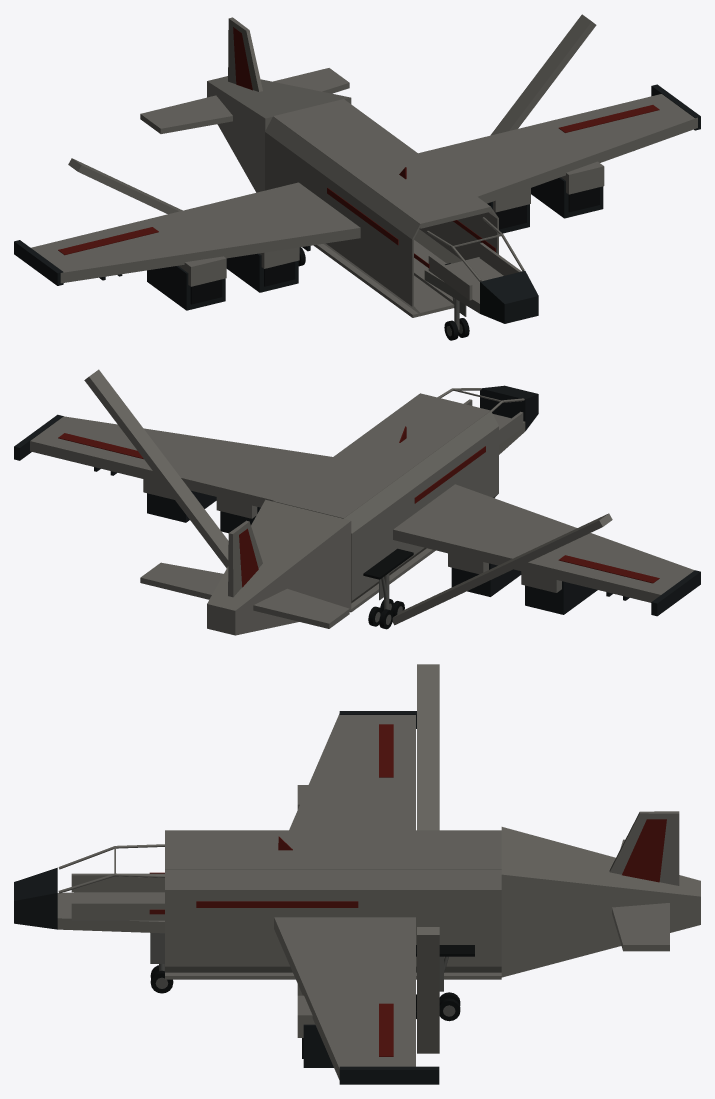
The picture shows the model from 3 angles, top to bottom: view 1: azimuth 30°, elevation 25°; view 2: azimuth 150°, elevation 25°; view 3: azimuth 270°, elevation 25°; orthographic projection. The views are drawn at different scales.
Parts seen in each view (by area): view 1: bomber-painted, flap-right-painted, bomber-bay-door-left-painted, flap-left-painted, bomber-bay-door-right-painted; view 2: bomber-painted, flap-right-painted, flap-left-painted, bomber-bay-door-left-painted; view 3: bomber-painted, flap-left-painted, flap-right-painted, bomber-bay-door-right-painted.
Boxes of the visible parts, box(x1,y1,x2,y2) form: bomber-painted: box(14, 17, 700, 323); flap-right-painted: box(490, 14, 596, 135); bomber-bay-door-left-painted: box(313, 244, 454, 317); flap-left-painted: box(68, 158, 182, 214); bomber-bay-door-right-painted: box(414, 240, 453, 303); bomber-painted: box(14, 385, 700, 635); flap-right-painted: box(84, 369, 228, 568); flap-left-painted: box(392, 513, 612, 625); bomber-bay-door-left-painted: box(349, 548, 435, 612); bomber-painted: box(14, 711, 700, 1084); flap-left-painted: box(417, 664, 439, 830); flap-right-painted: box(417, 927, 439, 1053); bomber-bay-door-right-painted: box(165, 972, 501, 979).
Bounding box in the file's own units: 195 × 56.36 × 158.
